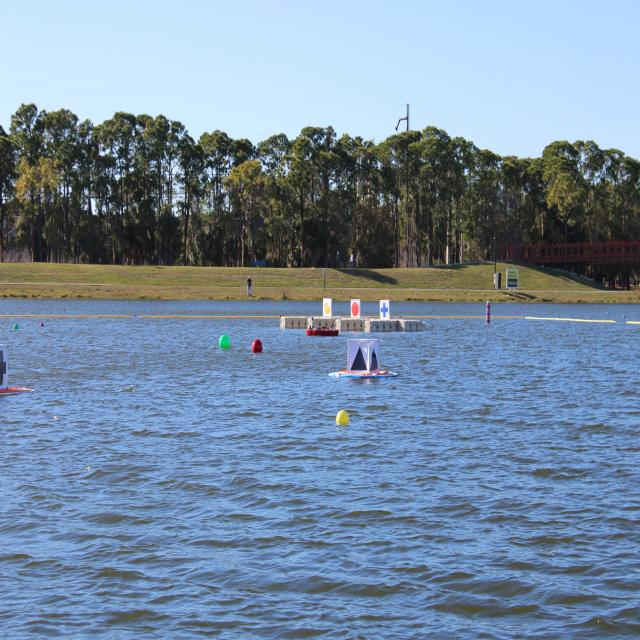blue-cross: (378, 299, 390, 319)
green-buoy: (219, 336, 230, 352)
red-buoy: (252, 338, 263, 354)
red-dot: (348, 298, 362, 319)
yellow-buoy: (338, 411, 350, 426)
yellow-duck: (322, 296, 332, 317)
